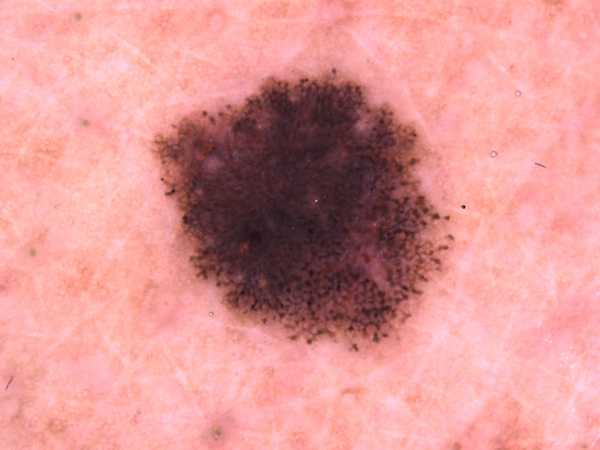Detected Lesion: (143, 63, 466, 361)
